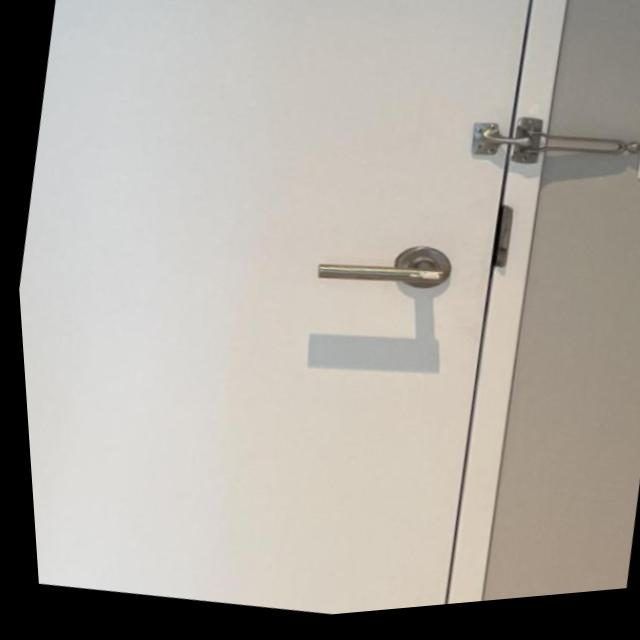door_handle: (299, 219, 472, 332)
